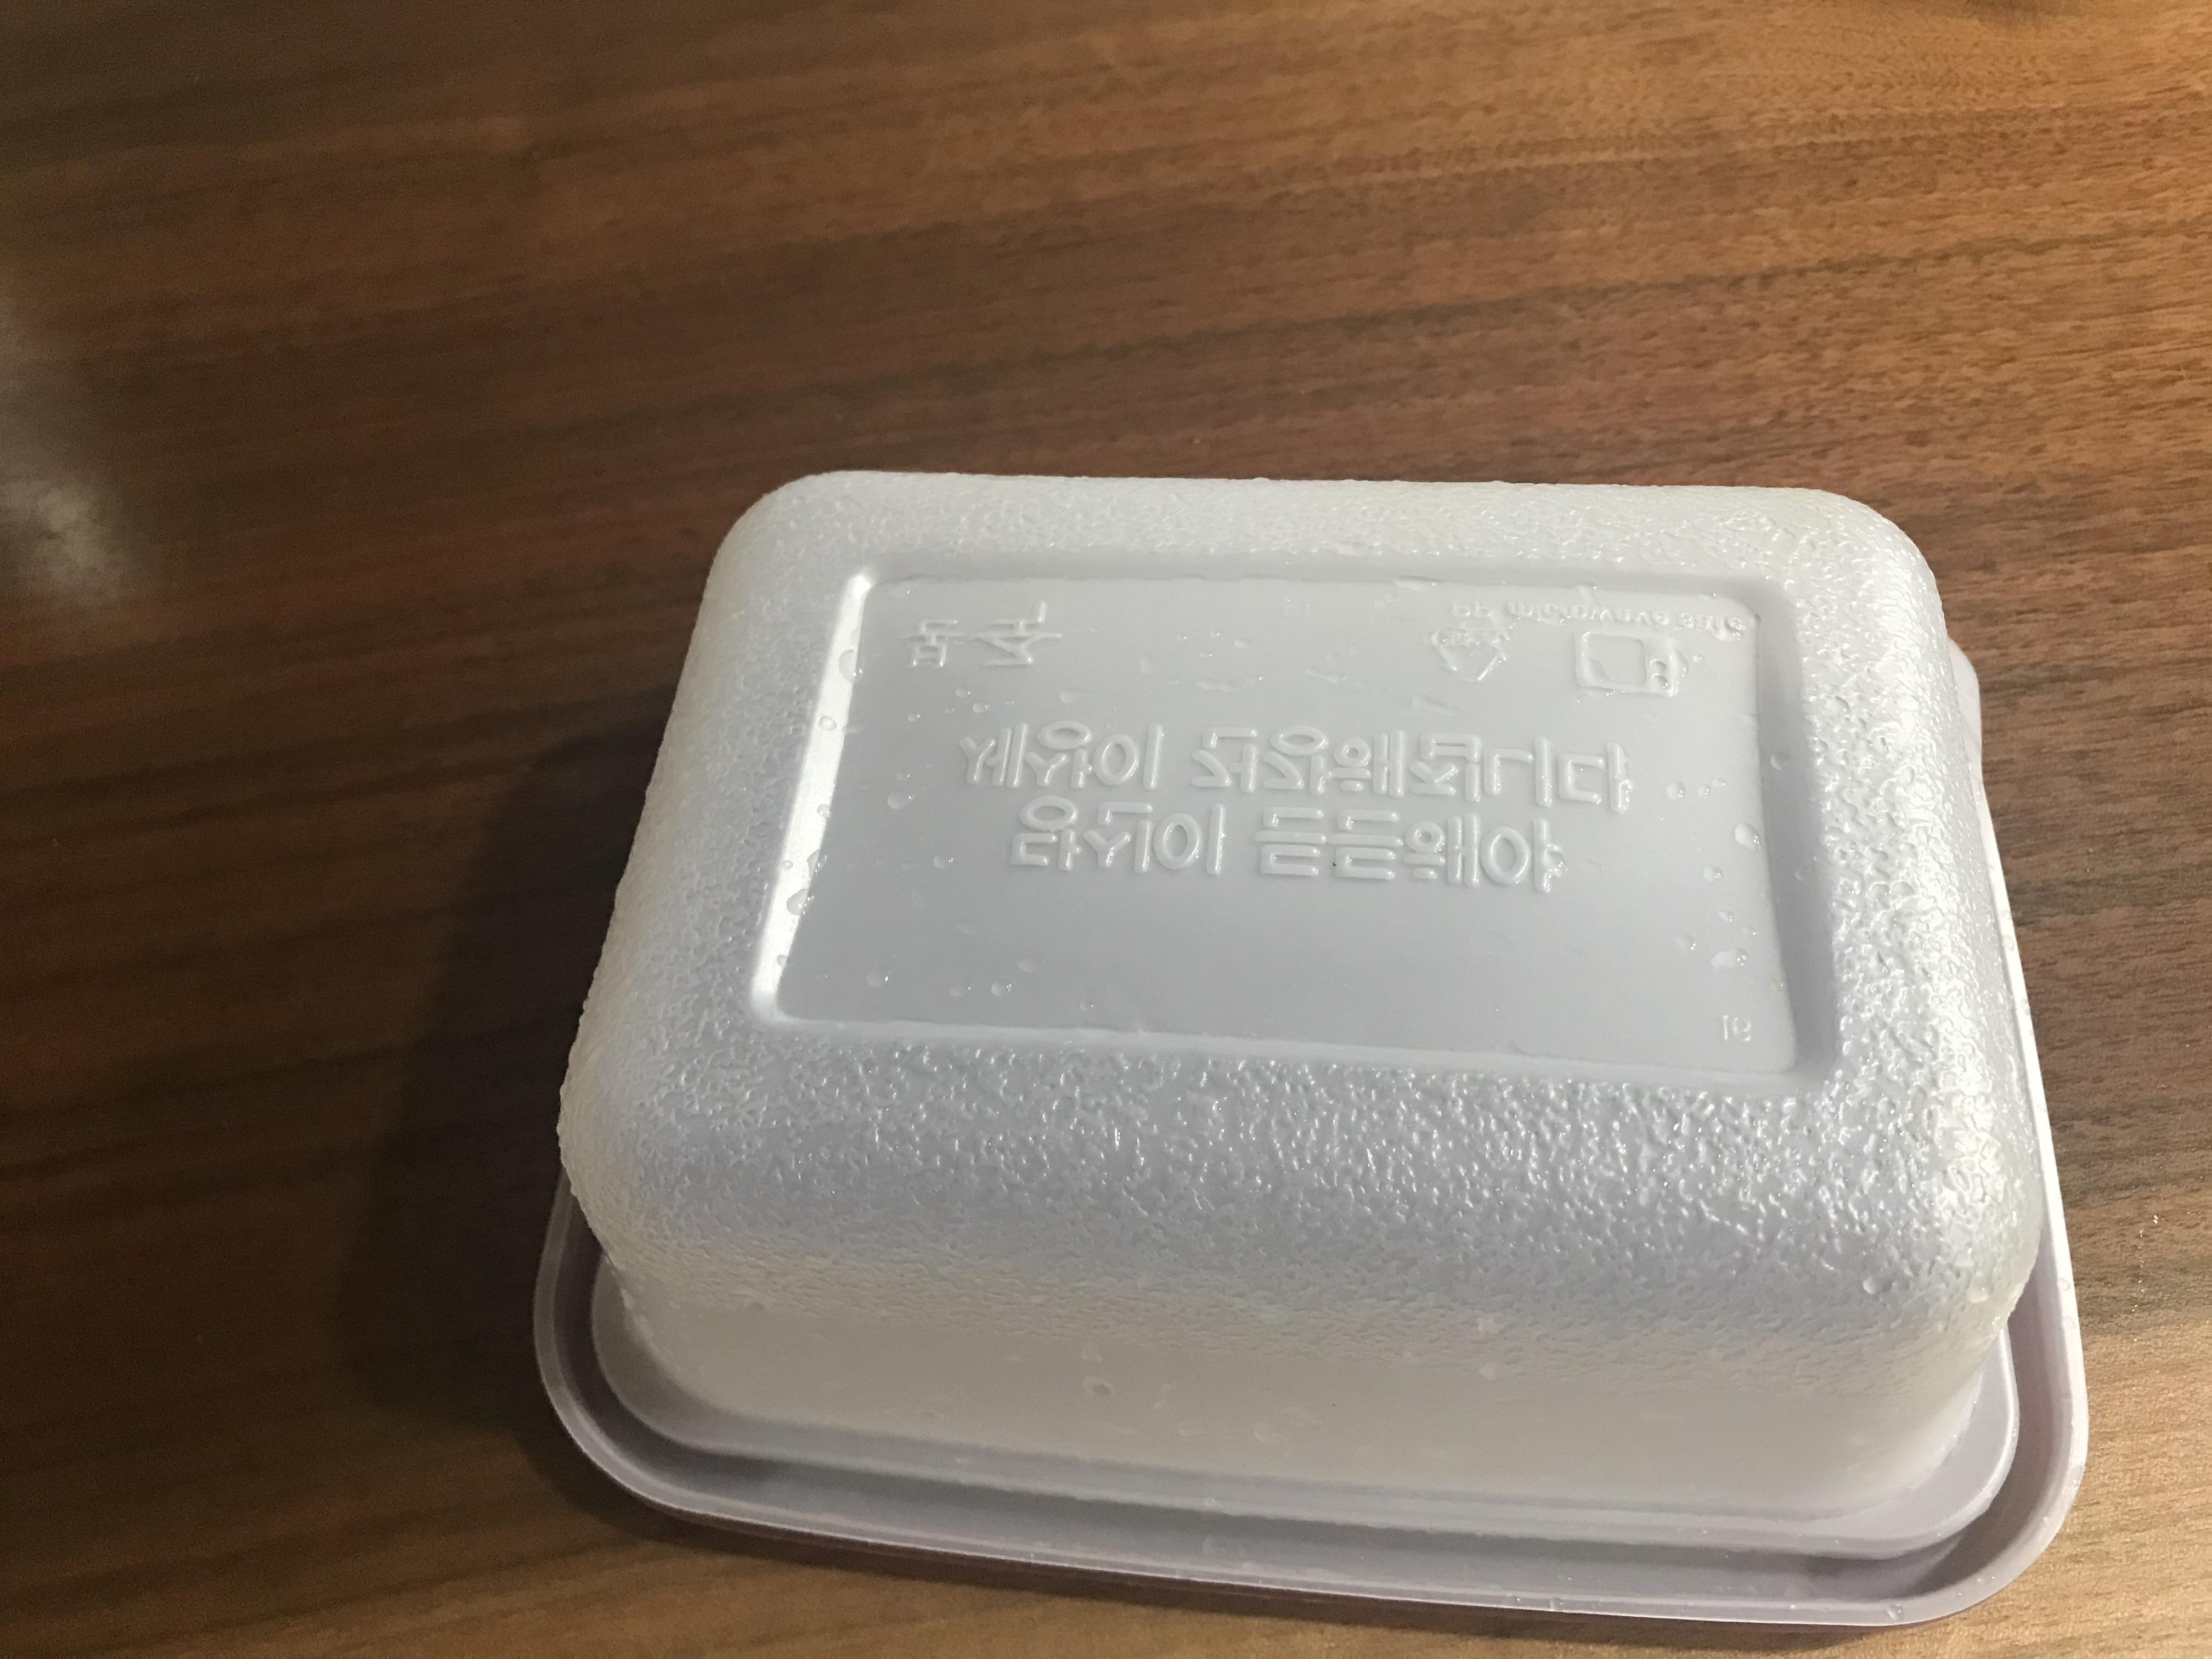bottle: (529, 375, 2092, 1652)
